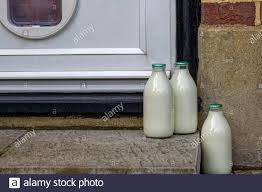milk: (146, 61, 179, 138), (202, 100, 235, 171), (170, 61, 202, 129)
